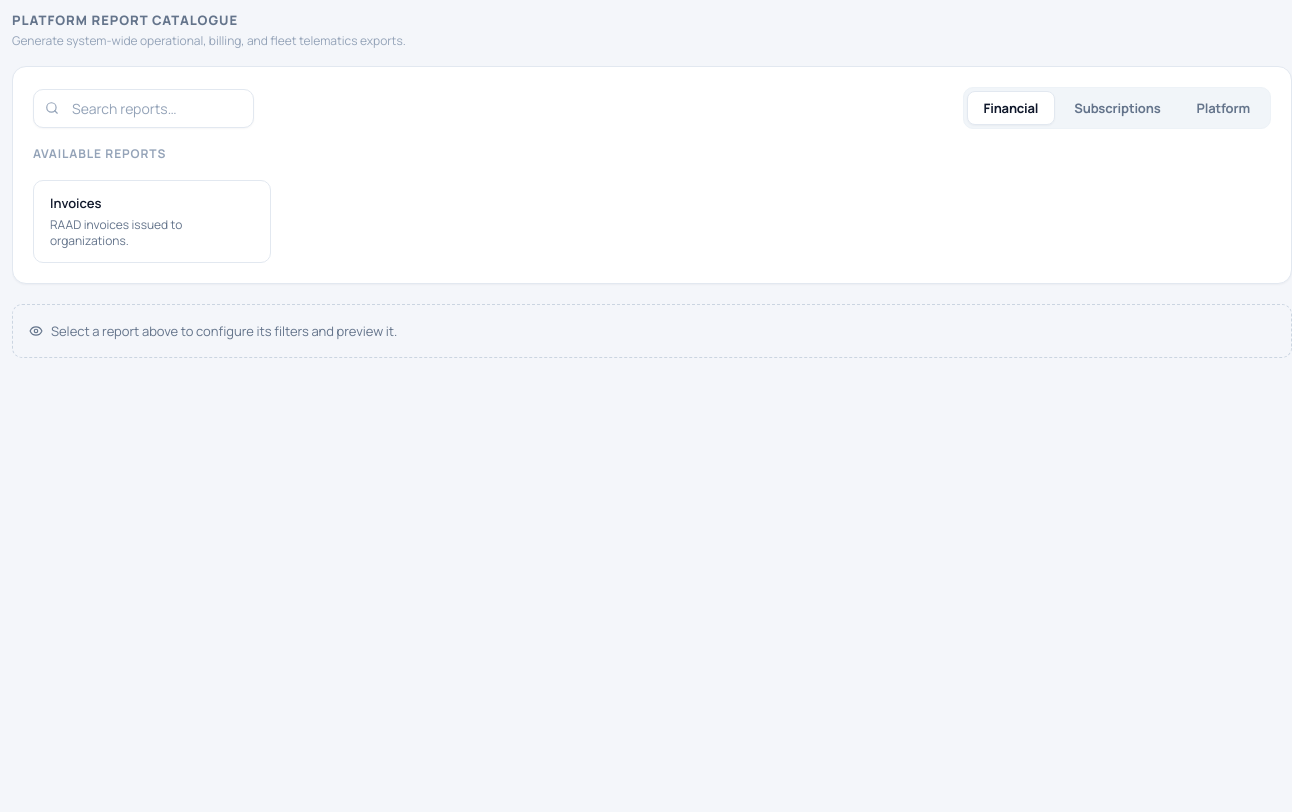
Test: PlatformReportCenter › shows subscription status and billing cycle filters only for reports that accept them
Click the text "Invoices" at (76,203), box [50,193,102,213]
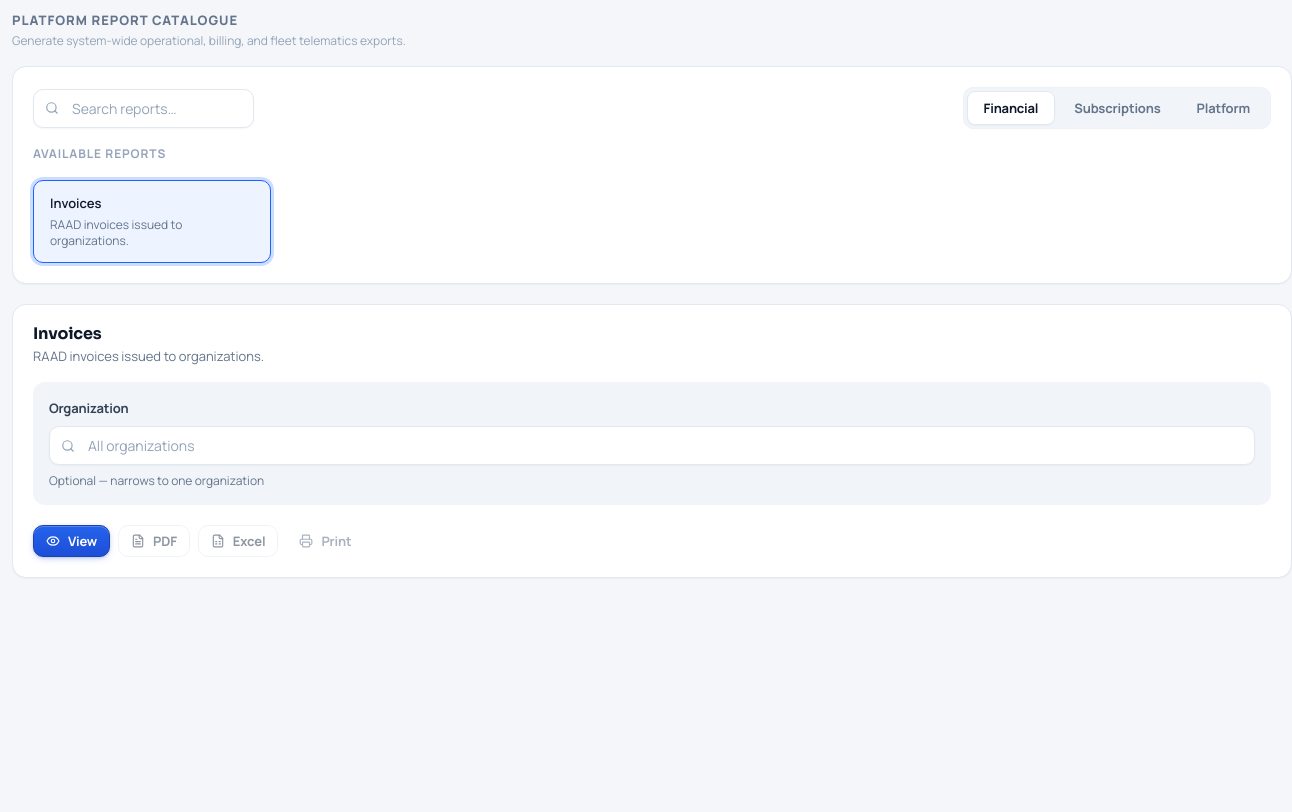
Check: the field labelled "Subscription status" is not shown
Check: the field labelled "Billing cycle" is not shown
Click the tab "Subscriptions" at (1117,108), box [1057,92,1178,126]
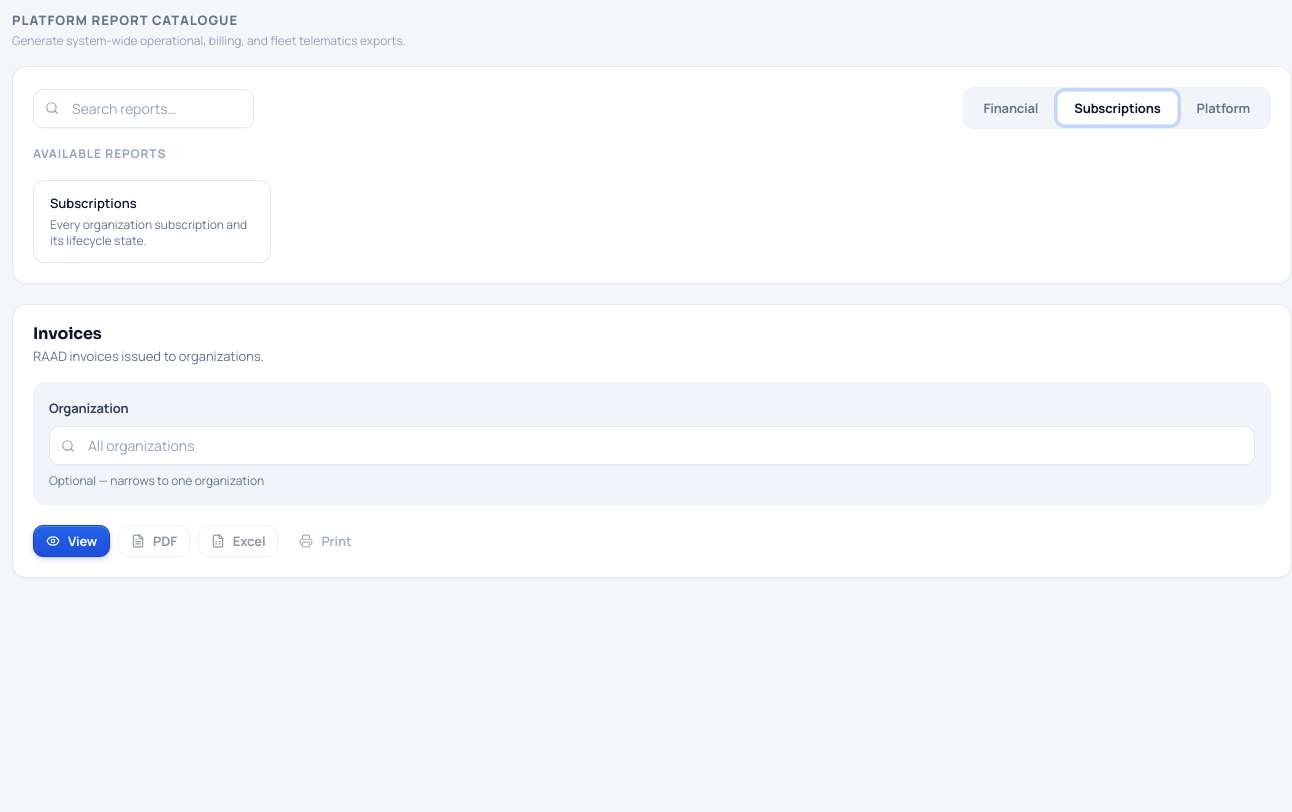
Click the text "Subscriptions" at (93,203), box [50,193,137,213]
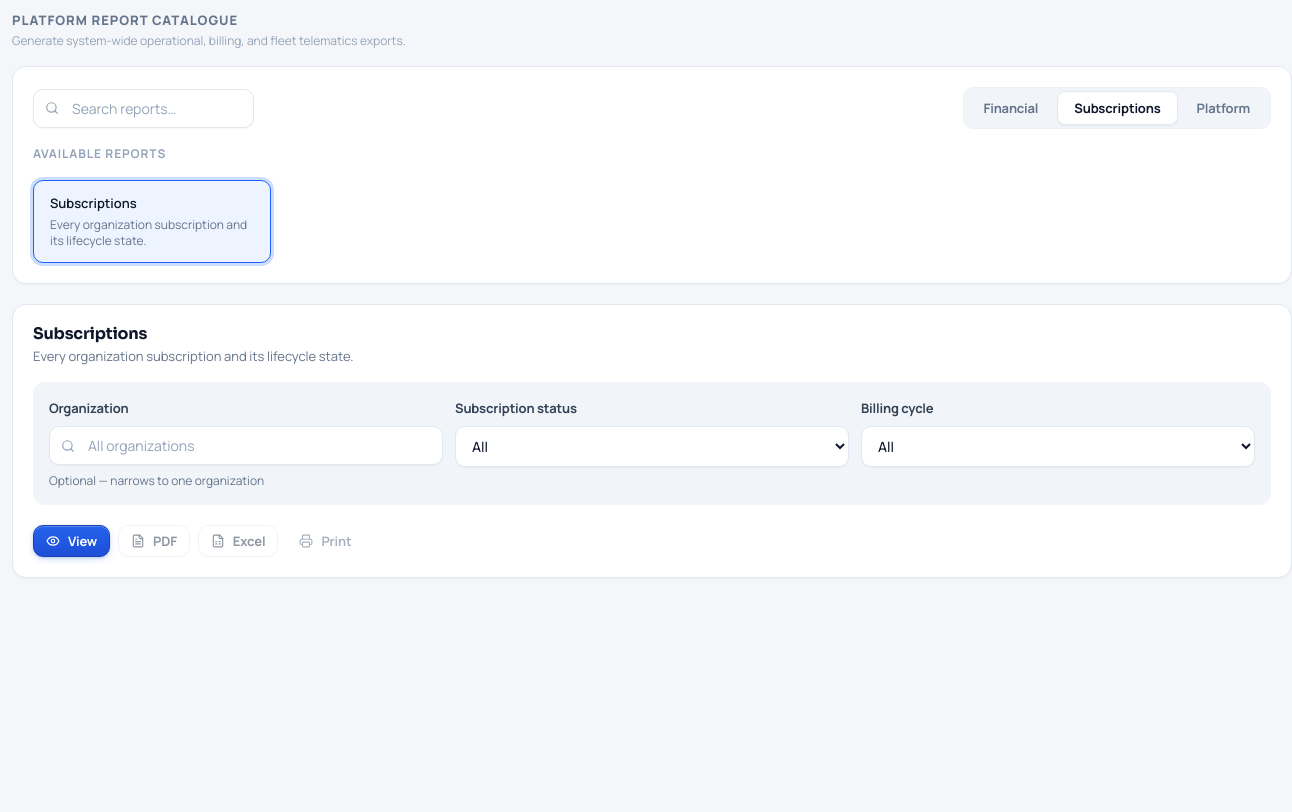
Check: the dropdown labelled "Subscription status" is shown, box [455,426,849,467]
Check: the dropdown labelled "Billing cycle" is shown, box [861,426,1255,467]
